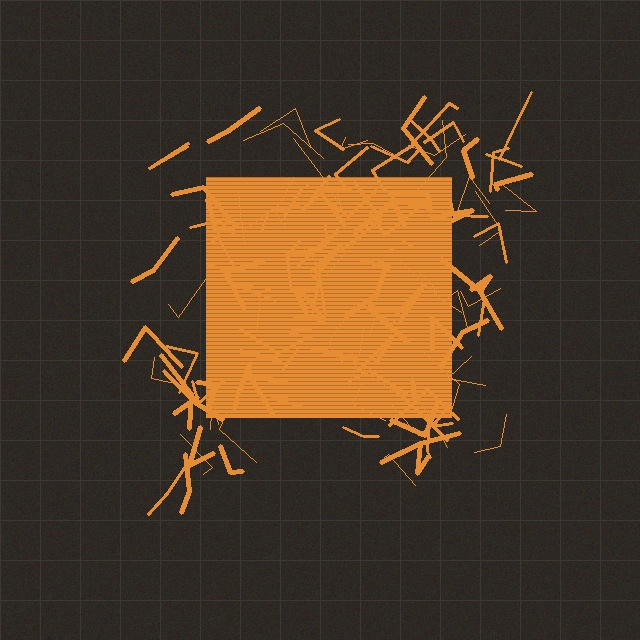spaghetti: (166, 127, 511, 467)
